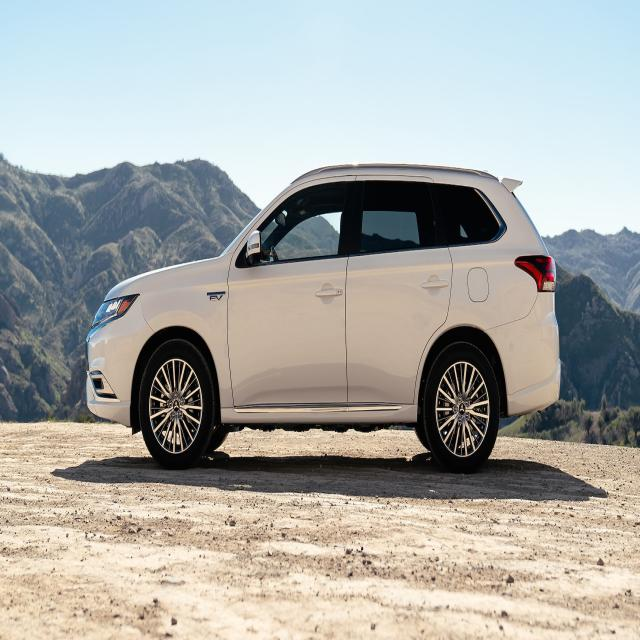light_vehicle: (84, 163, 562, 474)
